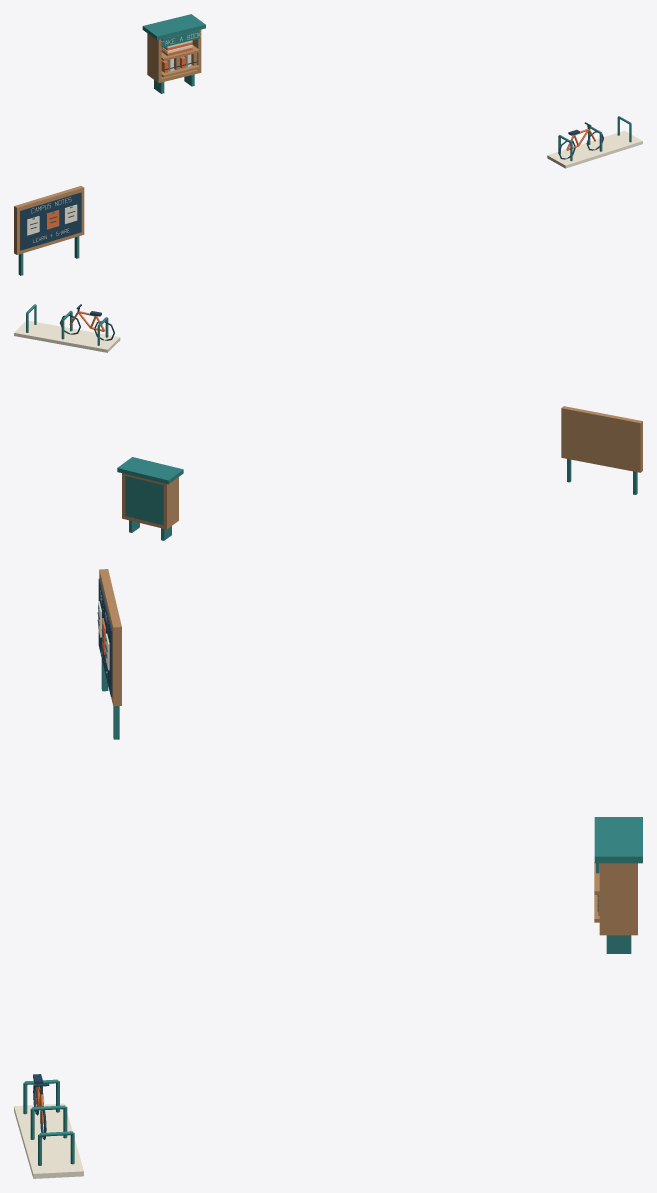
File: learning.glb
3 renders of one model, top to bottom at view 1: azimuth 30°, elevation 25°; view 2: azimuth 150°, elevation 25°; view 3: azimuth 270°, elevation 25°, orthographic. The views are drawn at different scales.
Parts seen in each view (by area): view 1: static_detail_wood, static_detail_ivory, static_detail_navy, static_detail_teal, static_detail_orange; view 2: static_detail_wood, static_detail_teal, static_detail_ivory; view 3: static_detail_wood, static_detail_teal, static_detail_ivory, static_detail_navy.
Part boxes in pixels (<box>): static_detail_wood: <box>14,29,201,254</box>; static_detail_ivory: <box>27,32,642,242</box>; static_detail_navy: <box>20,61,603,250</box>; static_detail_teal: <box>18,14,631,275</box>; static_detail_orange: <box>46,42,595,229</box>; static_detail_wood: <box>122,406,642,529</box>; static_detail_teal: <box>26,304,637,540</box>; static_detail_ivory: <box>14,321,120,352</box>; static_detail_wood: <box>99,569,637,935</box>; static_detail_teal: <box>23,605,642,1165</box>; static_detail_ivory: <box>14,590,109,1178</box>; static_detail_navy: <box>33,578,598,1139</box>.
Bounding box in the file's own units: 19.89 × 2.18 × 10.71.
